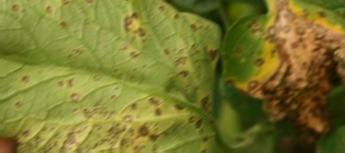Tomato Septoria leaf spot: (0, 0, 244, 153), (236, 0, 345, 129)
